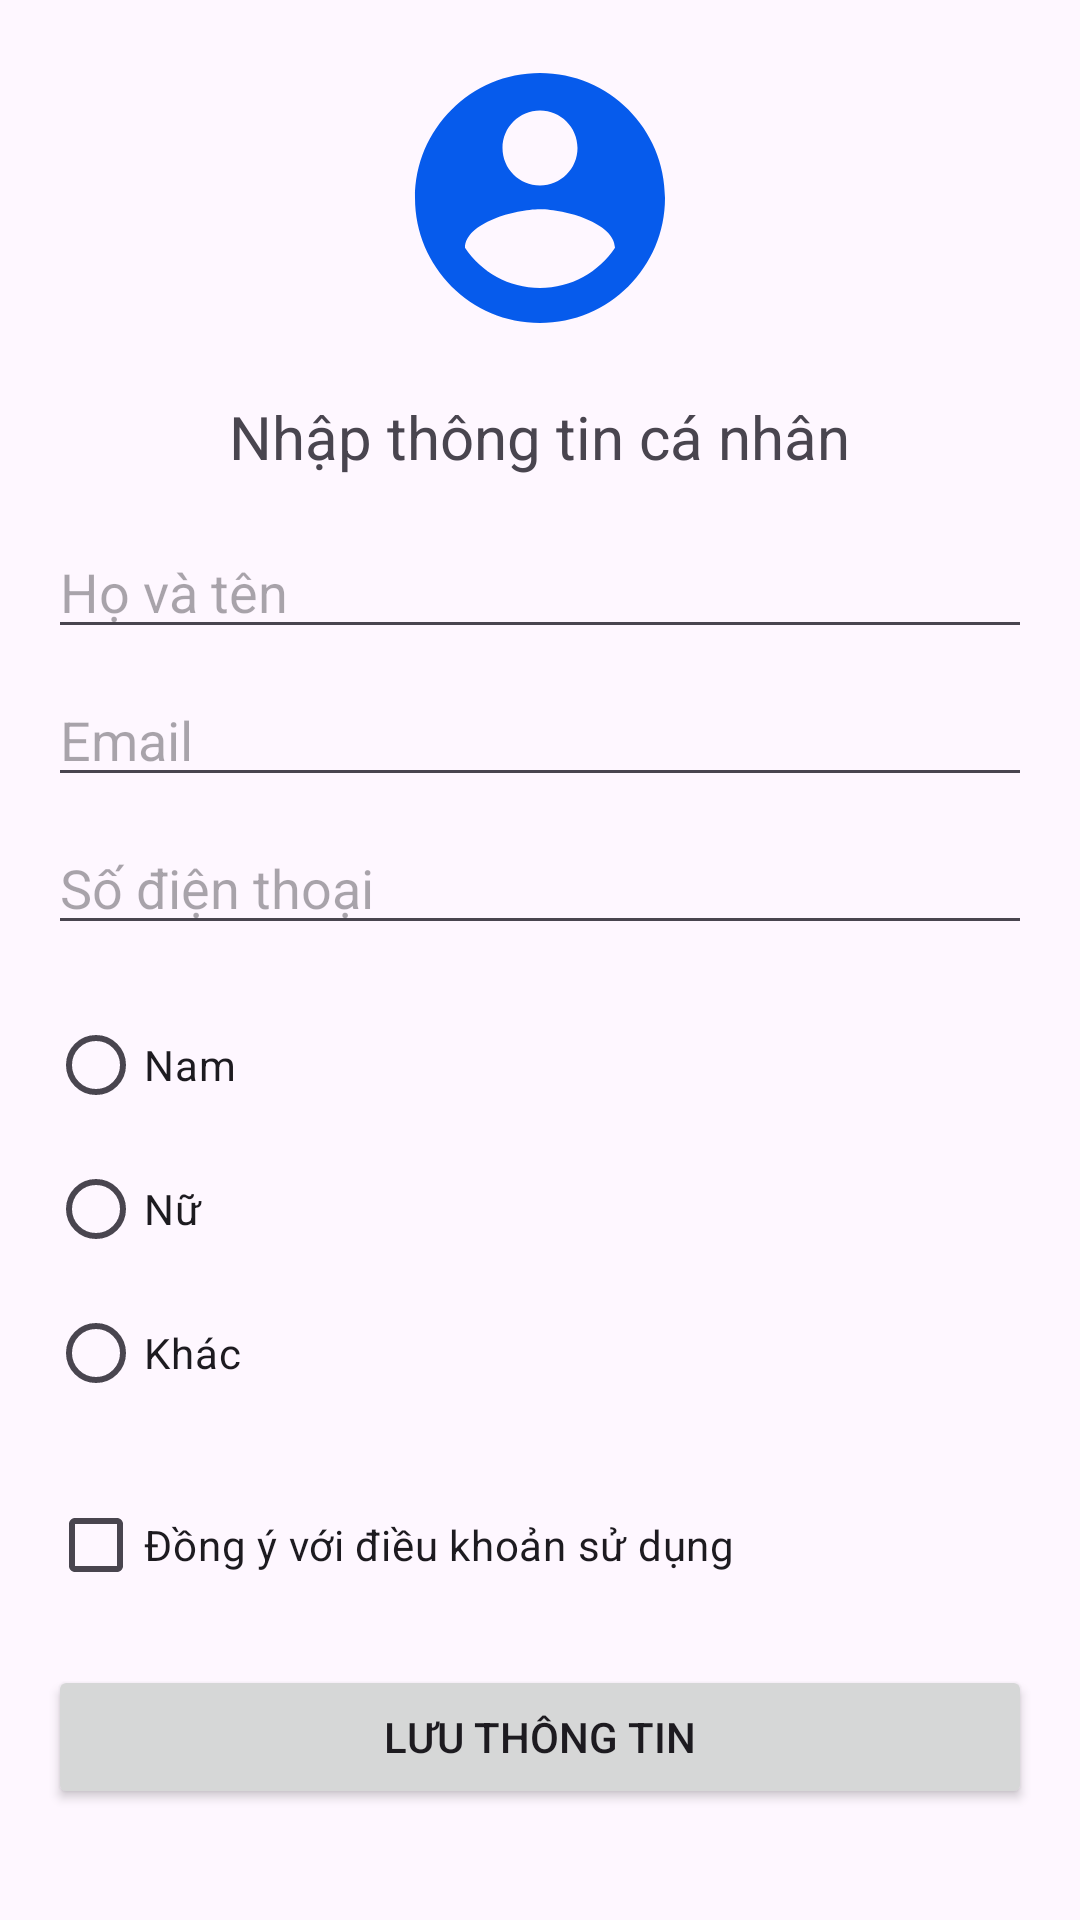

Named icons in this screenshot (1080×1920) and their bounding boxes, (x1, y1, x2, y2):
account circle: (415, 73, 665, 323)
